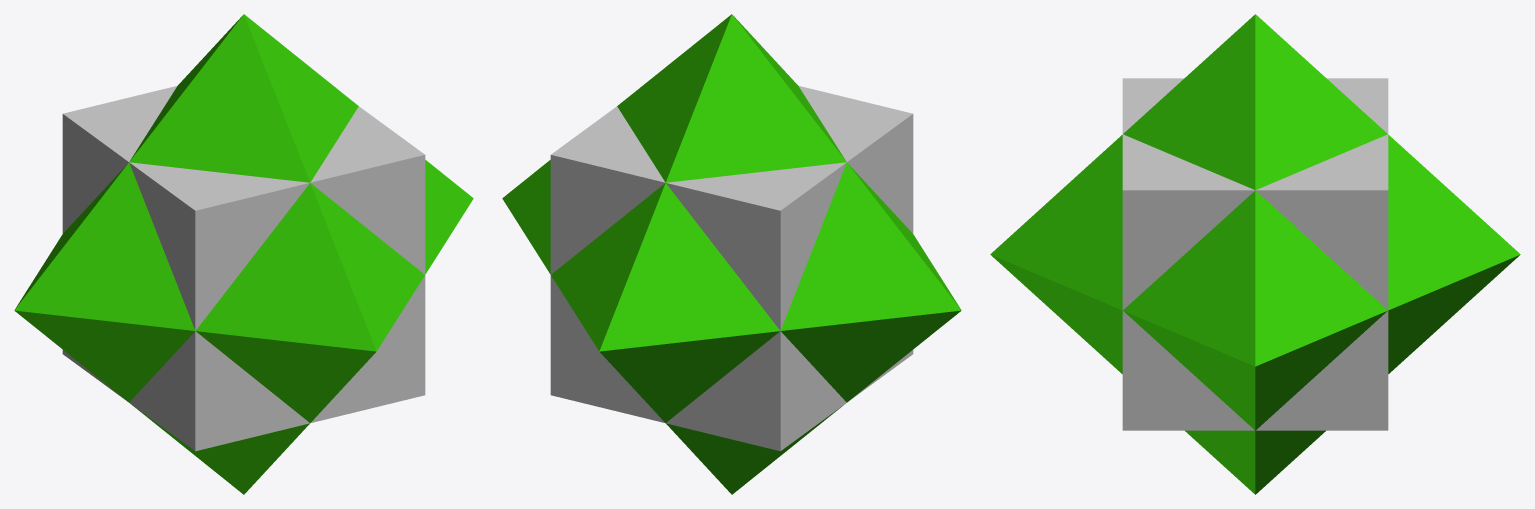
The model's file is Trinket.obj.
The picture shows the model from 3 angles, left to right: view 1: azimuth 30°, elevation 25°; view 2: azimuth 150°, elevation 25°; view 3: azimuth 270°, elevation 25°; orthographic projection.
Visible parts, largest first — view 1: Torus; view 2: Torus; view 3: Torus.
Part boxes in pixels (bbox=[...]): Torus: bbox=[14, 14, 473, 494]; Torus: bbox=[502, 14, 961, 494]; Torus: bbox=[990, 14, 1520, 494].
Bounding box in the file's own units: 0.5 × 0.5 × 0.5.
